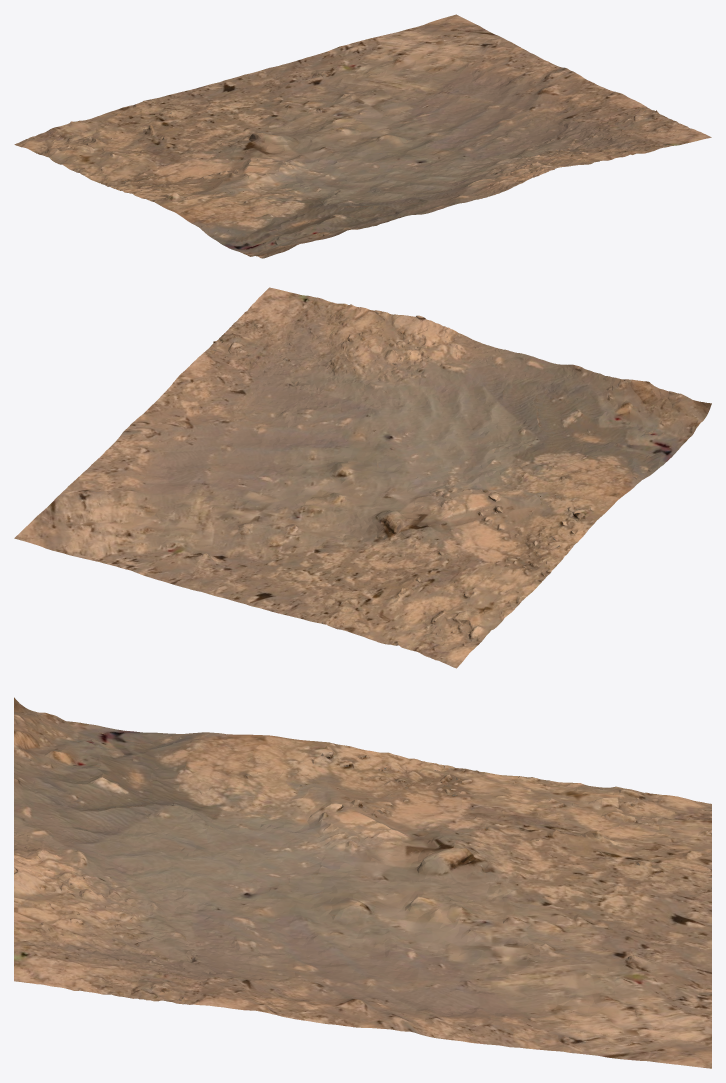
3 renders of one model, top to bottom at view 1: azimuth 30°, elevation 25°; view 2: azimuth 150°, elevation 25°; view 3: azimuth 270°, elevation 25°, orthographic. The views are drawn at different scales.
Size of the model in its own units: 16.71 by 3.41 by 16.71.
Materials: 3 (3 with a texture image).
